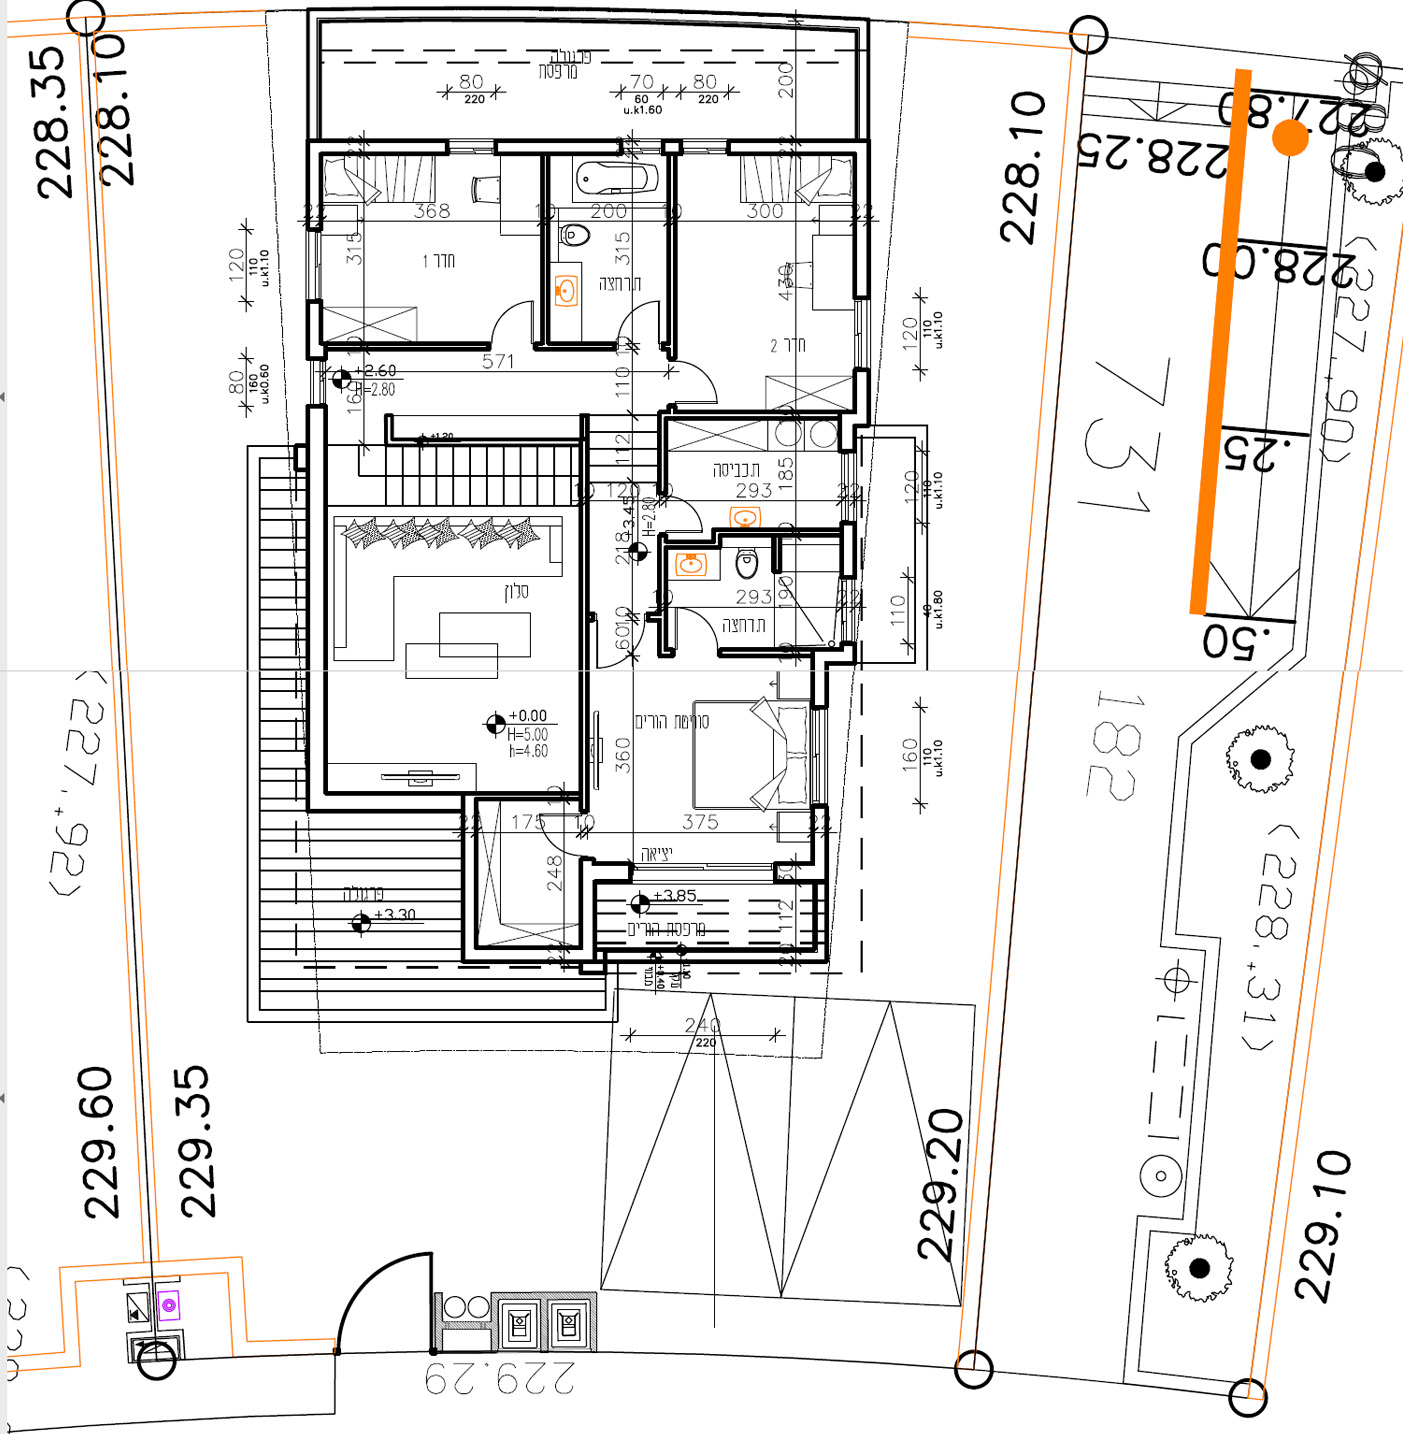door: (590, 622, 648, 672), (532, 808, 578, 861), (487, 298, 540, 341), (669, 603, 722, 645), (610, 298, 662, 341), (678, 357, 722, 406)
window: (632, 860, 773, 884), (809, 707, 827, 804), (304, 230, 322, 299), (853, 299, 870, 367), (839, 452, 856, 520), (840, 577, 857, 642), (681, 137, 726, 154), (448, 139, 493, 154), (621, 140, 660, 154)
